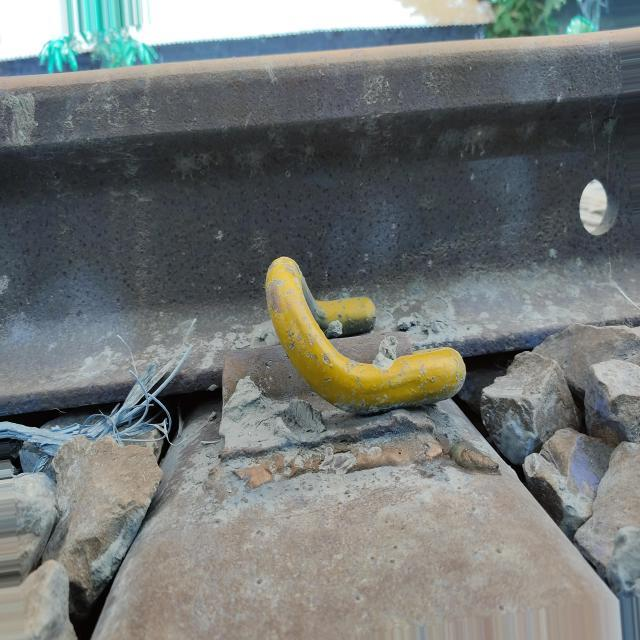Good Fasteners: (207, 266, 479, 488)
